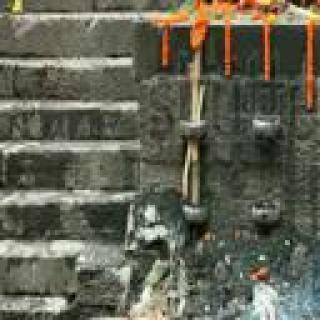fire: (248, 0, 320, 14)
